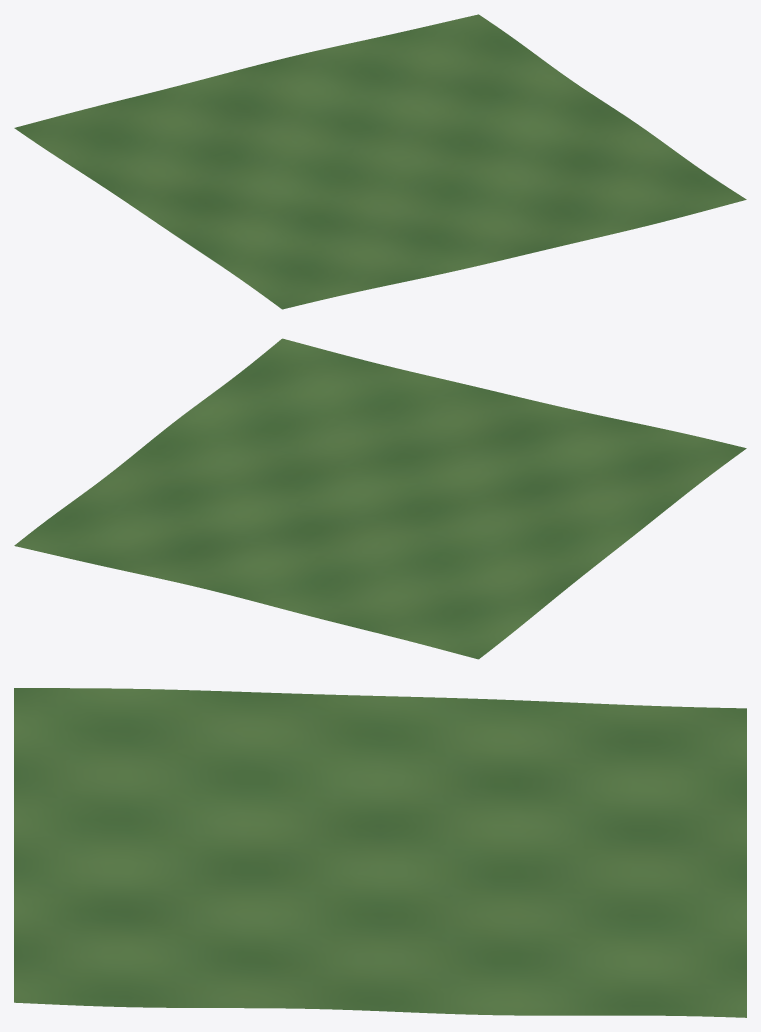
The model's file is chunk_6_5.glb.
3 views of the same model, one above another, from view 1: azimuth 30°, elevation 25°; view 2: azimuth 150°, elevation 25°; view 3: azimuth 270°, elevation 25° (orthographic). The views are drawn at different scales.
Bounding box in the file's own units: 512 × 15.62 × 512.
